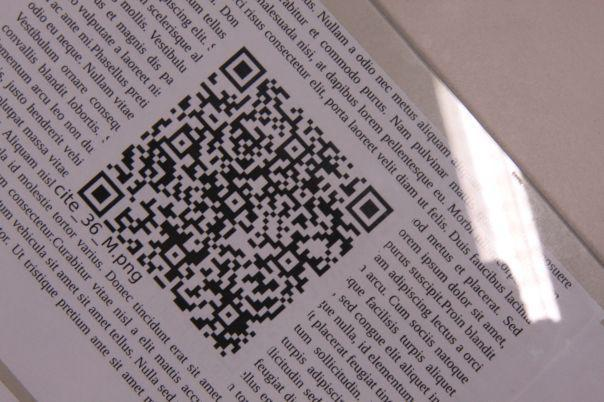qr_code: (77, 46, 394, 360)
